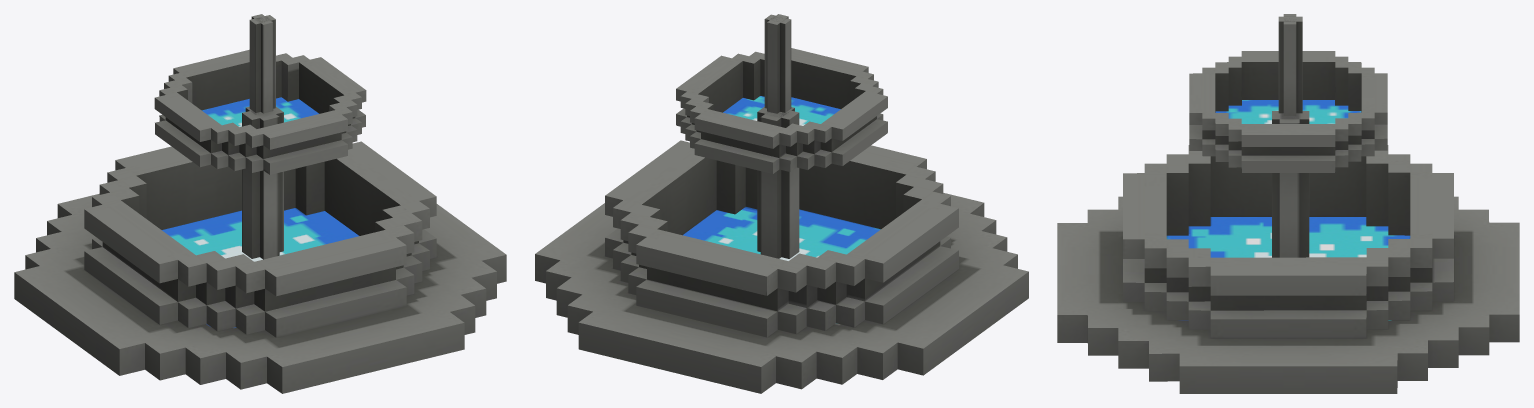
Rendered from fuente 1.fbx.
The picture shows the model from 3 angles, left to right: view 1: azimuth 30°, elevation 25°; view 2: azimuth 150°, elevation 25°; view 3: azimuth 270°, elevation 25°; orthographic projection. The views are drawn at different scales.
Visible parts, largest first — view 1: fuente; view 2: fuente; view 3: fuente.
Part boxes in pixels (box(x1,y1,x2,y2)): fuente: box(14, 14, 506, 393); fuente: box(535, 14, 1028, 393); fuente: box(1057, 14, 1519, 393).
Bounding box in the file's own units: 5.76 × 3.83 × 5.76.
